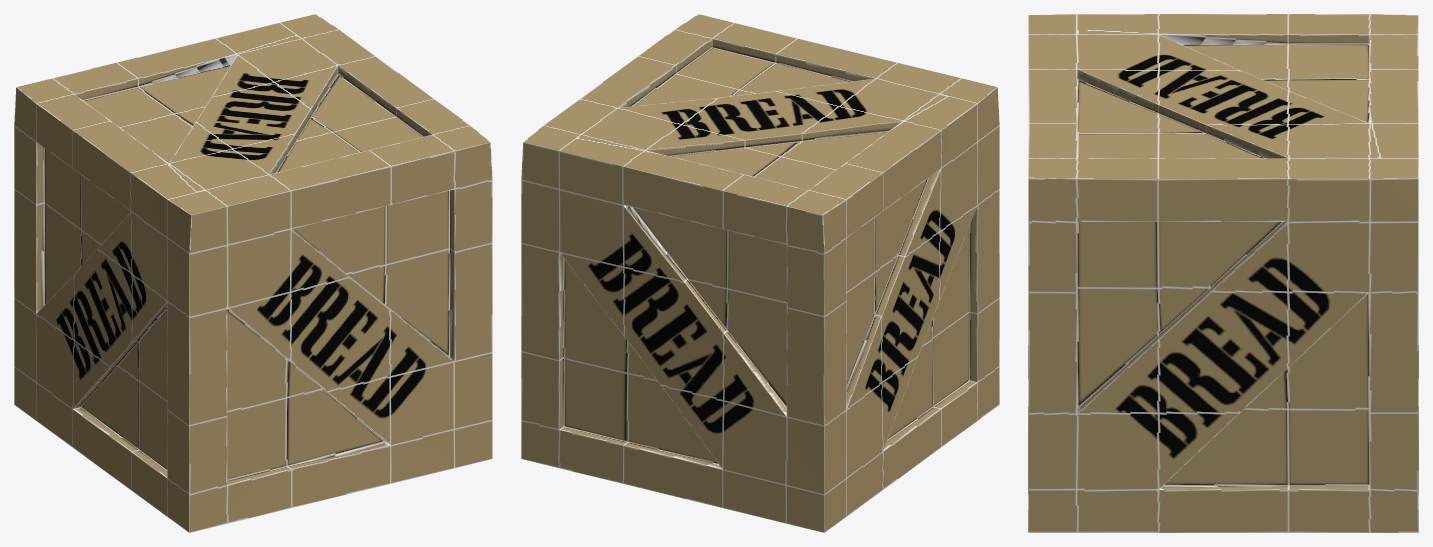
File: crate.fbx
3 views of the same model, side by side, from view 1: azimuth 30°, elevation 25°; view 2: azimuth 150°, elevation 25°; view 3: azimuth 270°, elevation 25° (orthographic). The views are drawn at different scales.
Visible parts, largest first — view 1: polySurface2; view 2: polySurface2; view 3: polySurface2.
Part boxes in pixels (left/top/right/bottom): polySurface2: left=14, top=14, right=492, bottom=532; polySurface2: left=521, top=14, right=999, bottom=532; polySurface2: left=1028, top=14, right=1418, bottom=532.
Bounding box in the file's own units: 3.97 × 3.97 × 3.97.
1 material, 1 textured.
